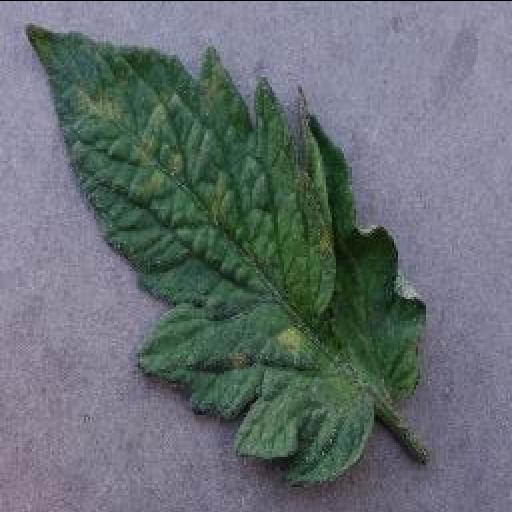disease_tomato: (24, 24, 428, 488)
